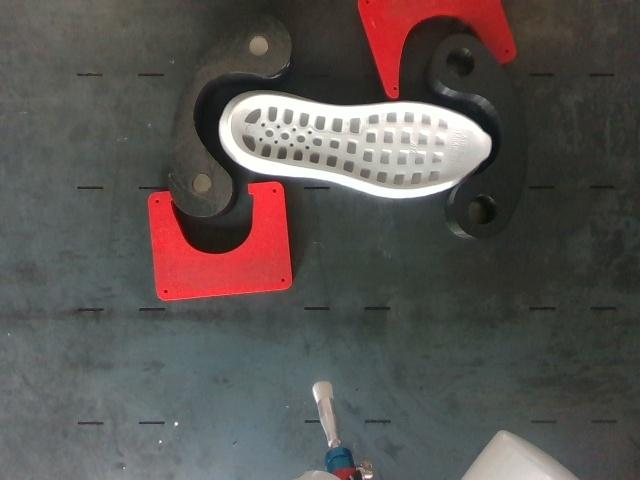shoes: (231, 96, 491, 189)
